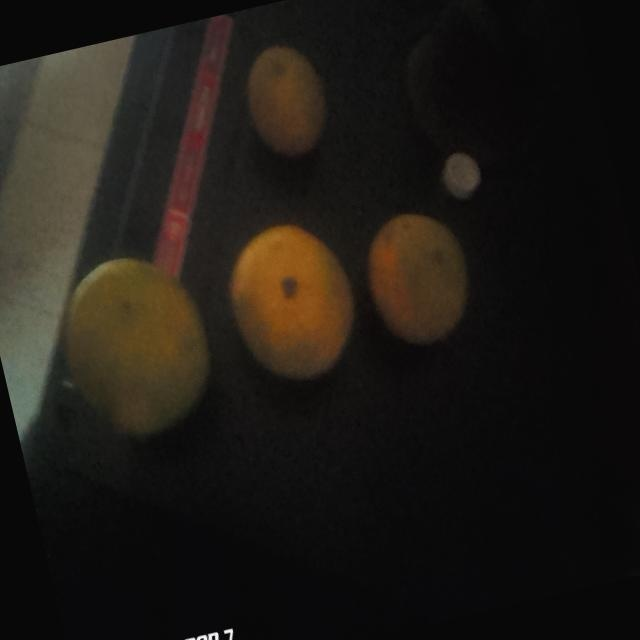agrume: (42, 242, 231, 446), (220, 210, 368, 397), (356, 200, 489, 351), (230, 35, 344, 161)
